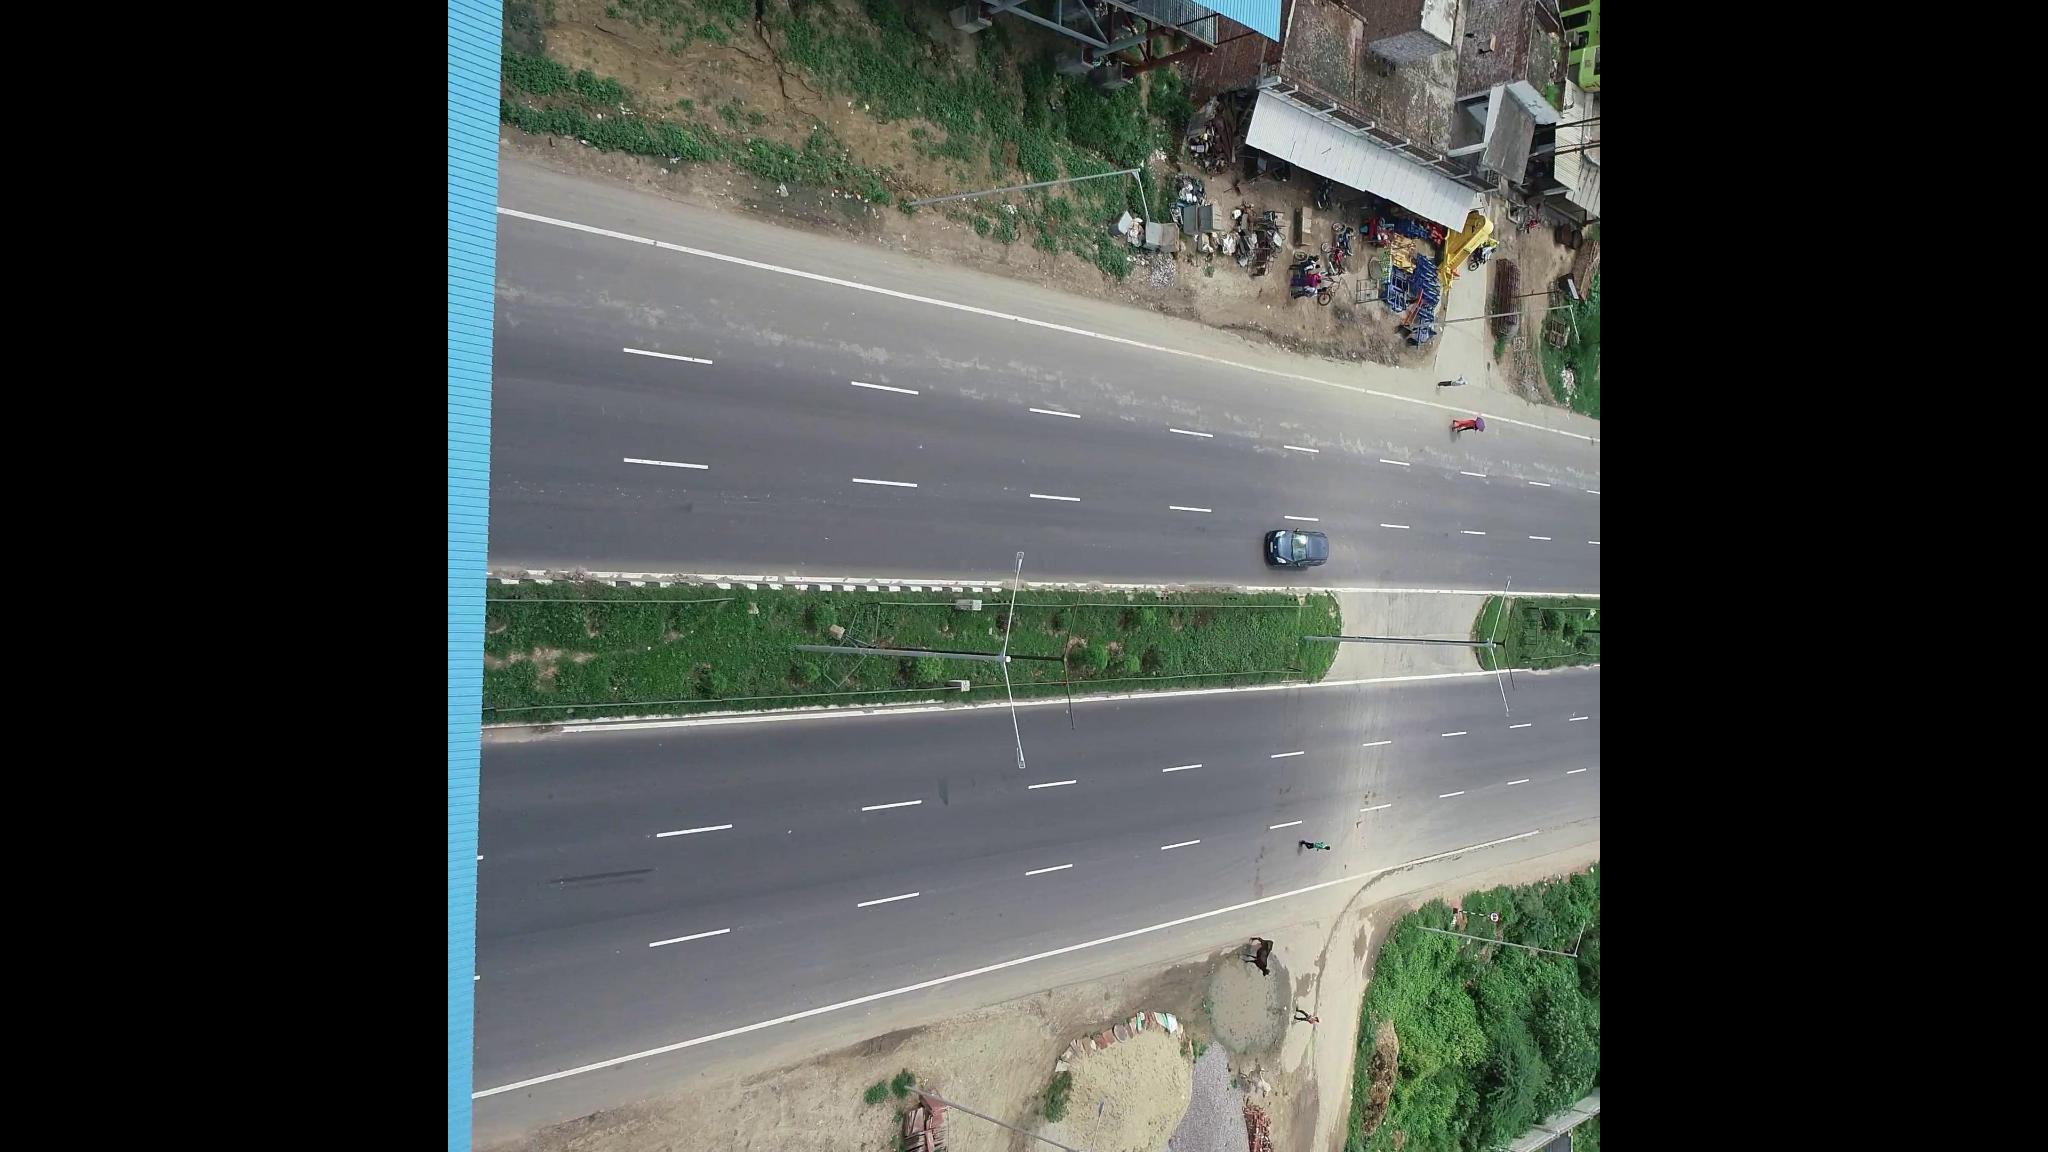Ravelling: (1037, 359, 1241, 450), (741, 326, 1009, 395), (1255, 416, 1464, 474)
